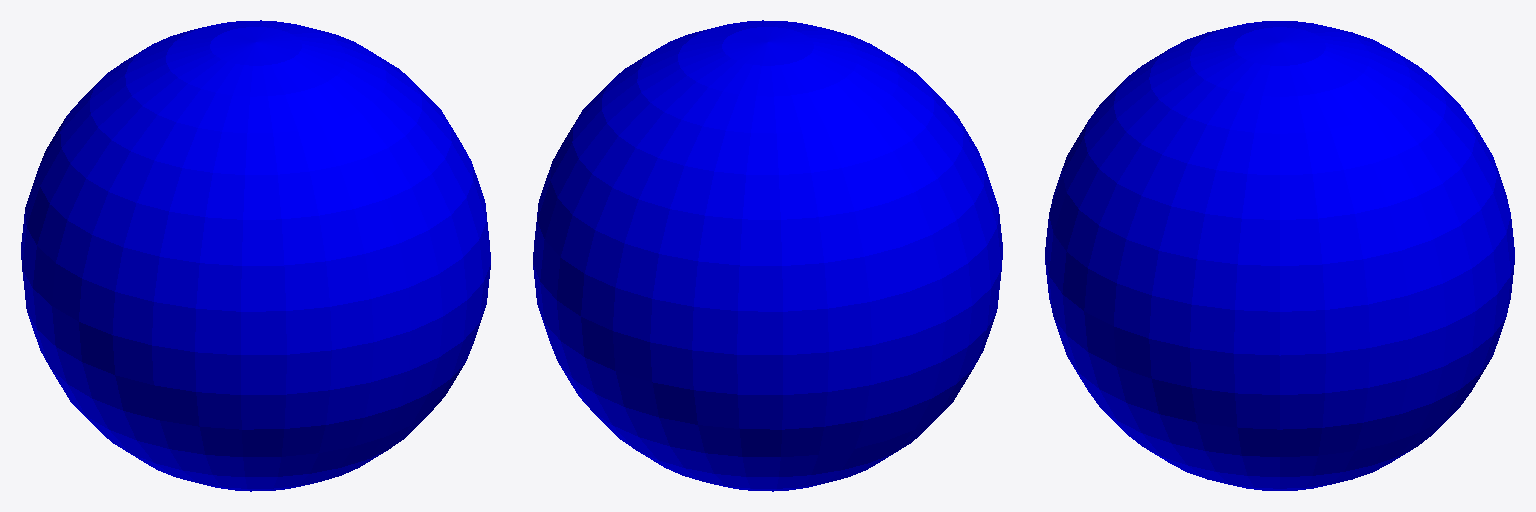
URDF robot description (pendulum):
<?xml version="1.0" ?>
<!-- A simple, downward-facing pendulum-->
<robot name="pendulum">
    <link name="world">
        <!-- It is necessary to add a mass to the world to work with and without freeflyer. -->
        <inertial>
            <origin xyz="0.0 0.0 0.0" rpy="0.0 0.0 0.0"/>
            <mass value="42.0"/>
            <inertia ixx="42.0" ixy="42.0" ixz="42.0" iyy="42.0" iyz="42.0" izz="42.0"/>
        </inertial>
    </link>
    <joint name="PendulumJoint" type="revolute">
      <origin xyz="0.0 0.0 0.0" rpy="0 0 0"/>
      <axis xyz="0 1 0"/>
      <parent link="world"/>
      <child link="PendulumArm"/>
      <limit effort="1000" velocity="100" lower="-1.5" upper="1.5"/>
    </joint>
    <link name="PendulumArm">
        <inertial>
            <origin xyz="0.0 0.0 0.0" rpy="0.0 0.0 0.0"/>
            <mass value="0.0"/>
            <inertia ixx="0.0" ixy="0.0" ixz="0.0" iyy="0.0" iyz="0.0" izz="0.0"/>
        </inertial>
    </link>
    <joint name="PendulumLinkJoint" type="fixed">
      <origin xyz="0.0 0.0 -1.0" rpy="0.0 0.0 0.0"/>
      <parent link="PendulumArm"/>
      <child link="PendulumLink"/>
    </joint>
    <link name="PendulumLink">
        <inertial>
            <origin xyz="0.0 0.0 0.0" rpy="0.0 0.0 0.0"/>
            <mass value="5.0"/>
            <inertia ixx="1.0" ixy="0.0" ixz="0.0" iyy="0.0" iyz="0.0" izz="1.0"/>
        </inertial>
        <visual>
            <origin xyz="0.0 0.0 0.0" rpy="0.0 0.0 0.0" />
            <geometry>
                <sphere radius="0.04"/>
            </geometry>
            <material name="">
                <color rgba="0.0 0.0 1.0 1.0"/>
            </material>
        </visual>
    </link>
</robot>

--- What the picture shows (computed from the rendered views, not written in the file) ---
Views: 3 orthographic renders of the robot side by side, from view 1: azimuth 30°, elevation 25°; view 2: azimuth 150°, elevation 25°; view 3: azimuth 270°, elevation 25°.
Model pendulum with 3 links and 2 joints (1 revolute, 1 fixed), rooted at world, posed every joint at zero.
Links seen in each view (by area): view 1: PendulumLink; view 2: PendulumLink; view 3: PendulumLink.
Boxes of the visible links, x1,y1,x2,y2 form: PendulumLink: (21,20,490,491); PendulumLink: (533,20,1002,491); PendulumLink: (1045,21,1514,490).
Bounding box of the posed robot: 0.08 × 0.08 × 0.08 m (x, y, z).
Geometry: primitives only (box / cylinder / sphere), no mesh files.